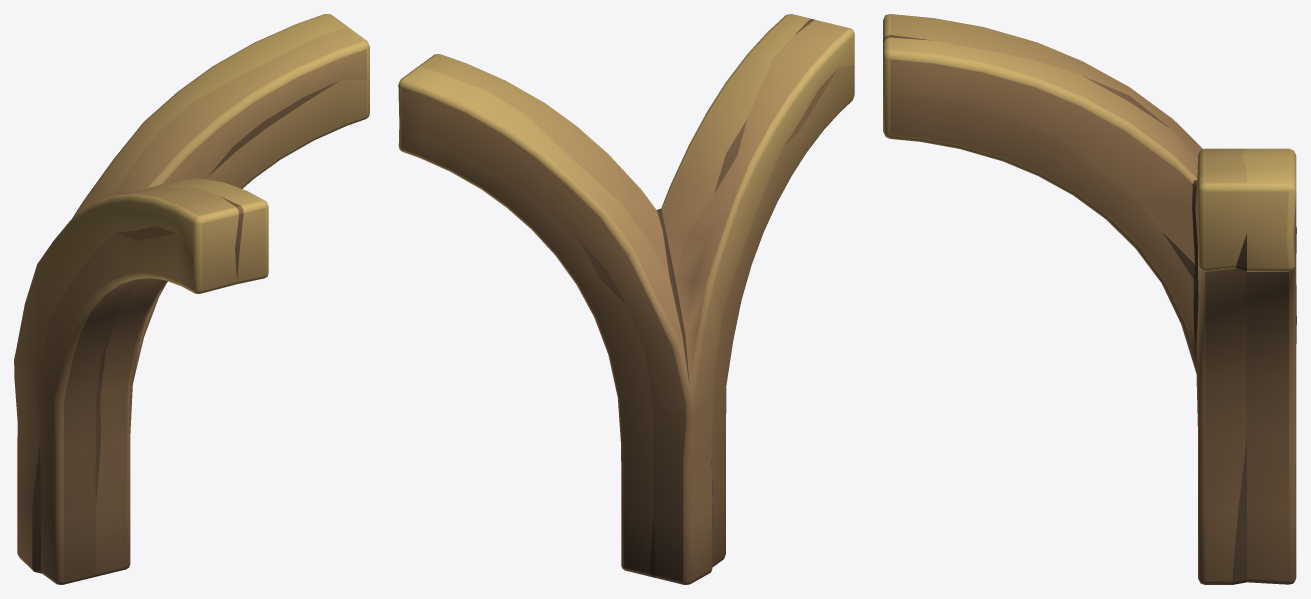
The model's file is tavern_wooden_arch_2.fbx.
The picture shows the model from 3 angles, left to right: view 1: azimuth 30°, elevation 25°; view 2: azimuth 150°, elevation 25°; view 3: azimuth 270°, elevation 25°; orthographic projection. The views are drawn at different scales.
Visible parts, largest first — view 1: tavern_wooden_arch_2_LOD0; view 2: tavern_wooden_arch_2_LOD0; view 3: tavern_wooden_arch_2_LOD0.
Part boxes in pixels (left/top/right/bottom): tavern_wooden_arch_2_LOD0: left=14, top=14, right=369, bottom=584; tavern_wooden_arch_2_LOD0: left=398, top=14, right=854, bottom=584; tavern_wooden_arch_2_LOD0: left=883, top=14, right=1296, bottom=584.
Size of what is drawn, in the model's own units: 230 by 324 by 227.
